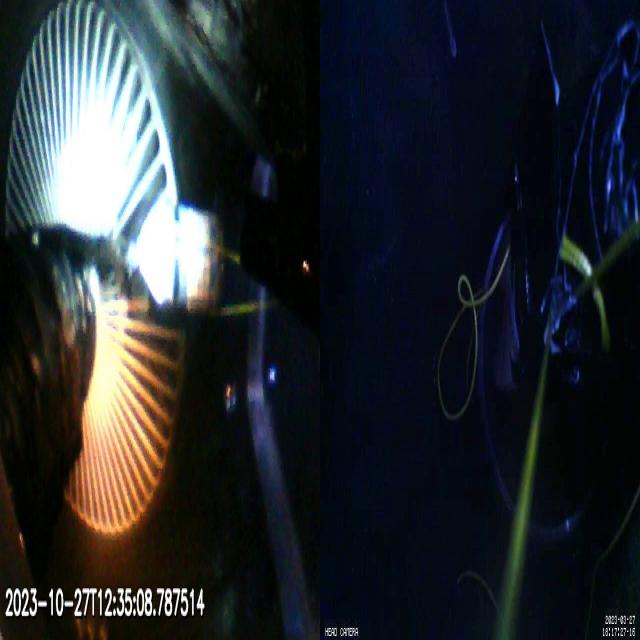head: (138, 202, 222, 310)
